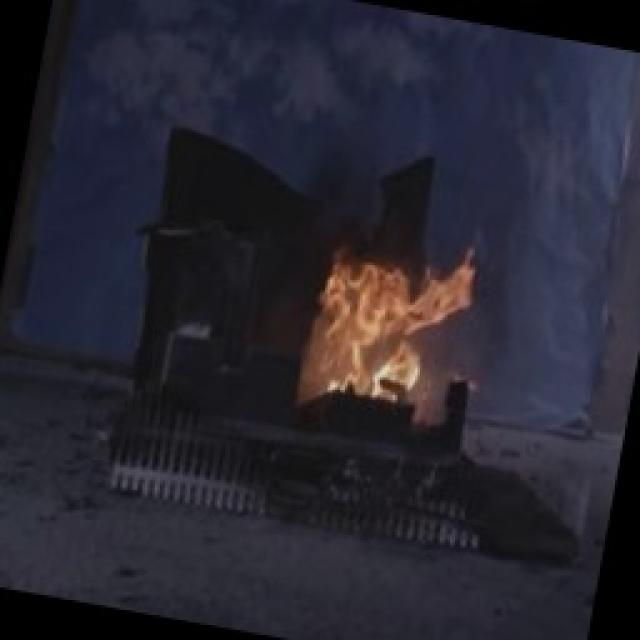fire: (276, 212, 506, 446)
